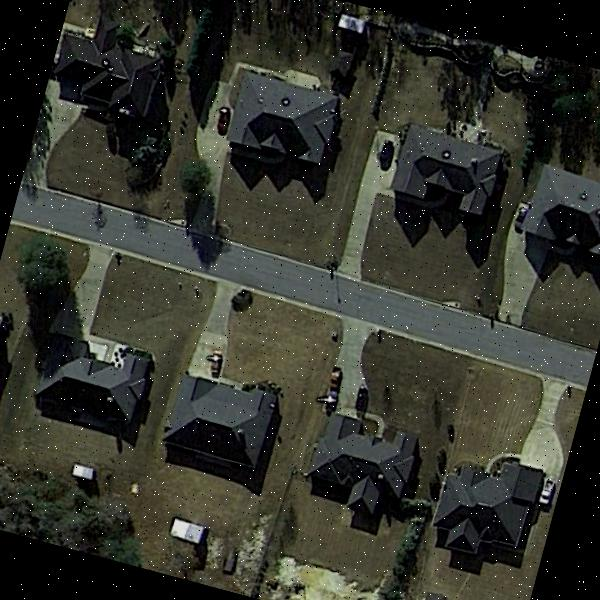Buildings: (34, 324, 156, 432), (226, 74, 343, 172), (44, 25, 158, 122), (388, 119, 500, 215), (165, 380, 273, 469), (300, 422, 401, 514), (444, 463, 540, 557), (522, 163, 600, 254), (0, 305, 15, 394)
